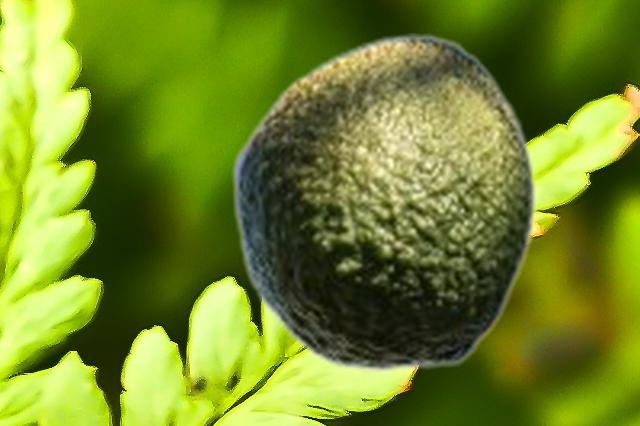avocado: (230, 33, 536, 371)
